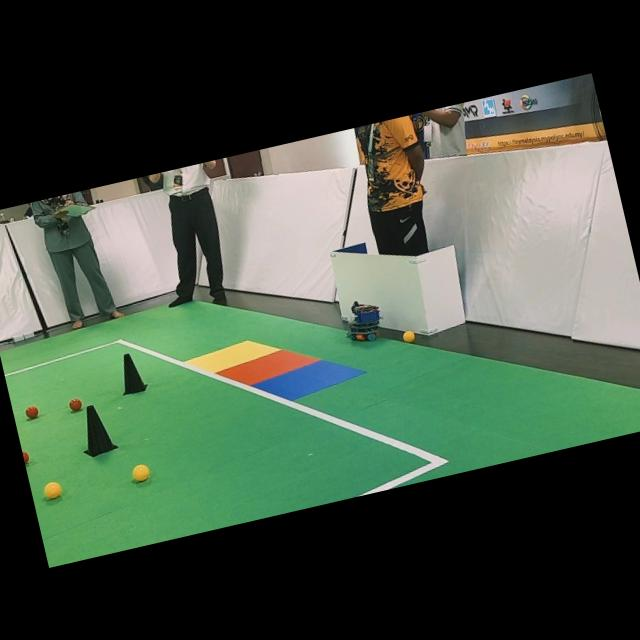ball: (44, 481, 62, 499), (132, 464, 150, 481), (25, 405, 39, 419), (68, 398, 82, 411), (403, 330, 415, 342), (22, 450, 30, 463)
goal: (253, 359, 364, 400), (218, 349, 319, 385), (186, 339, 281, 373)
